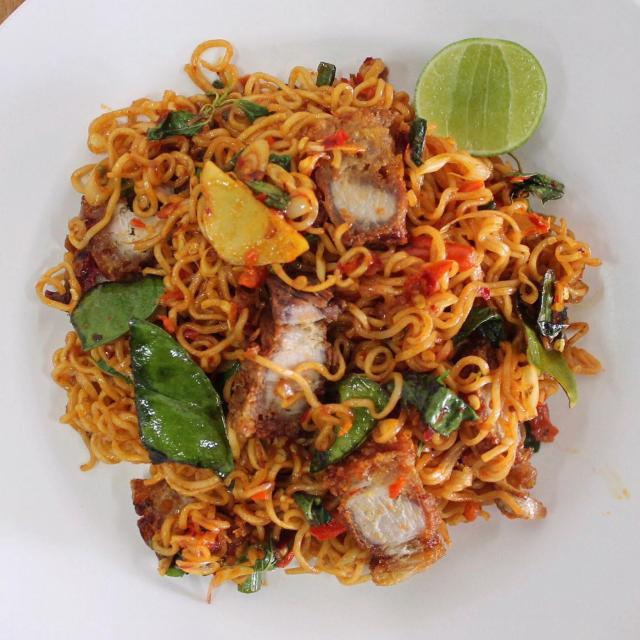carb: (111, 125, 525, 511)
meat: (342, 460, 438, 564), (265, 286, 328, 422), (309, 166, 409, 249), (90, 190, 168, 268)
stir-fried instant noodles: (57, 74, 580, 588)
vegetable: (128, 326, 228, 470), (345, 383, 460, 438), (81, 283, 166, 333)
